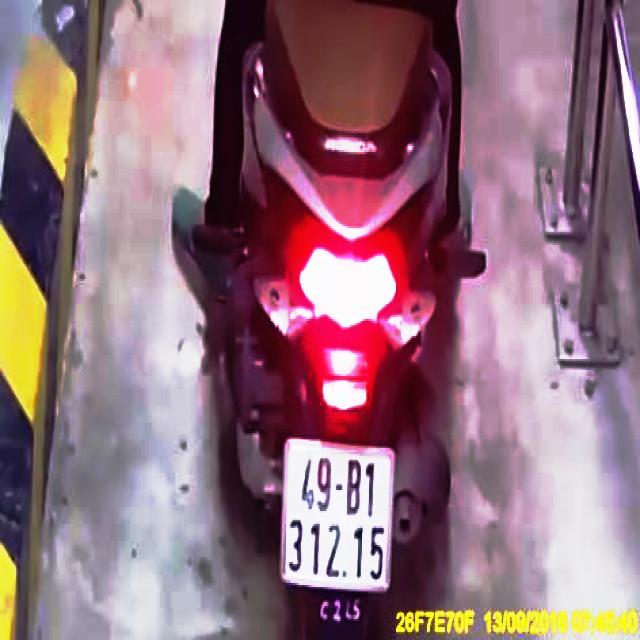license_plate: (283, 443, 392, 587)
